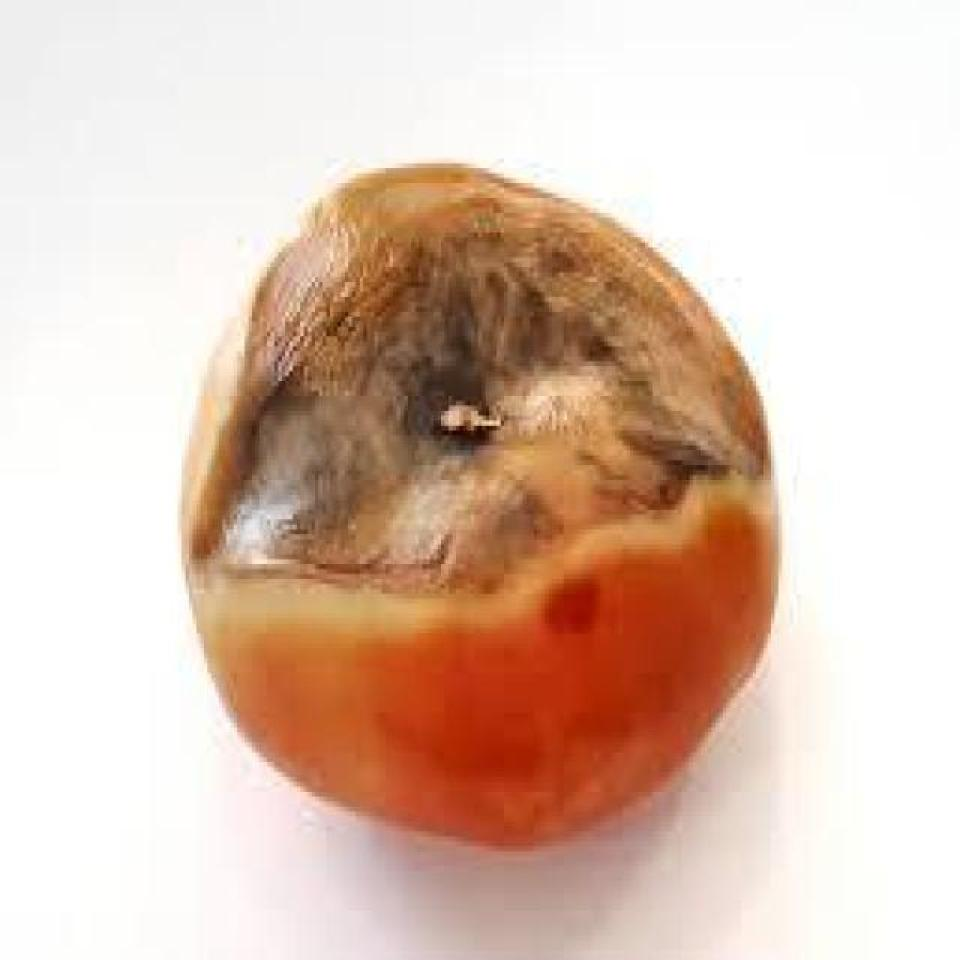Blossom_end_rot: (168, 156, 777, 602)
